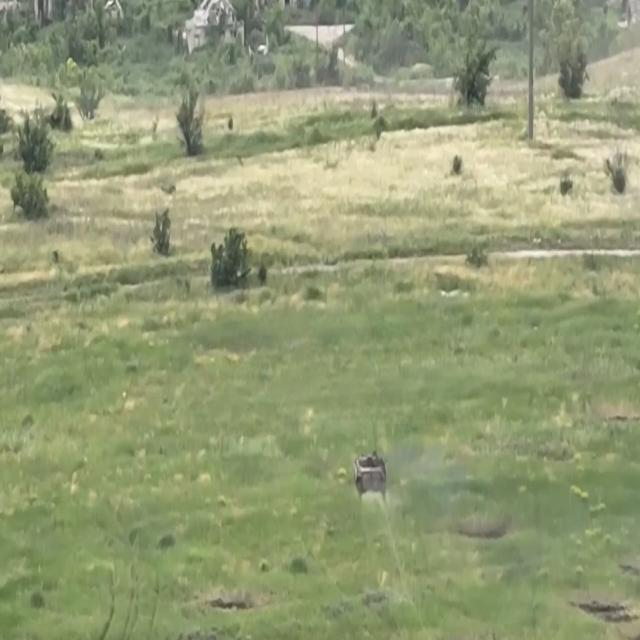AIFV: (353, 449, 389, 497)
